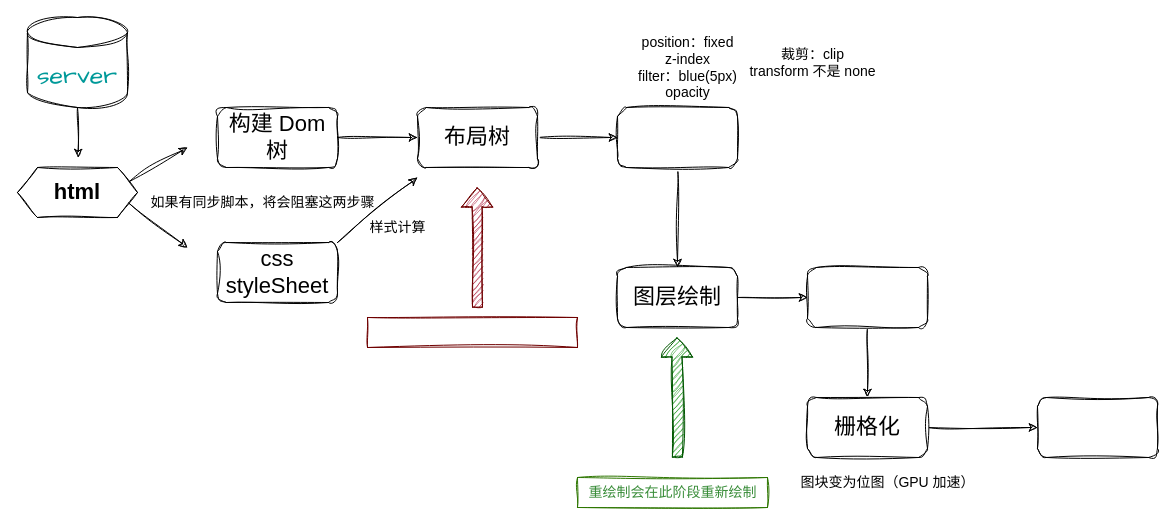
Some shapes in this 1175 by 525 pixel diagram are drawn without their labels. The centre of each missing label's shape, as x and y in pixels:
分层树: point (677, 137)
划分图块: point (867, 297)
合成+显示: point (1097, 427)
重排会在此阶段重新计算布局: point (472, 332)
